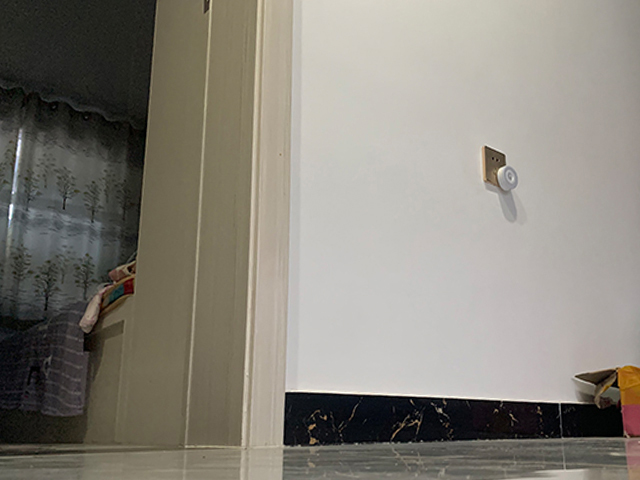bed: (1, 299, 89, 444)
curtain: (3, 87, 119, 299)
